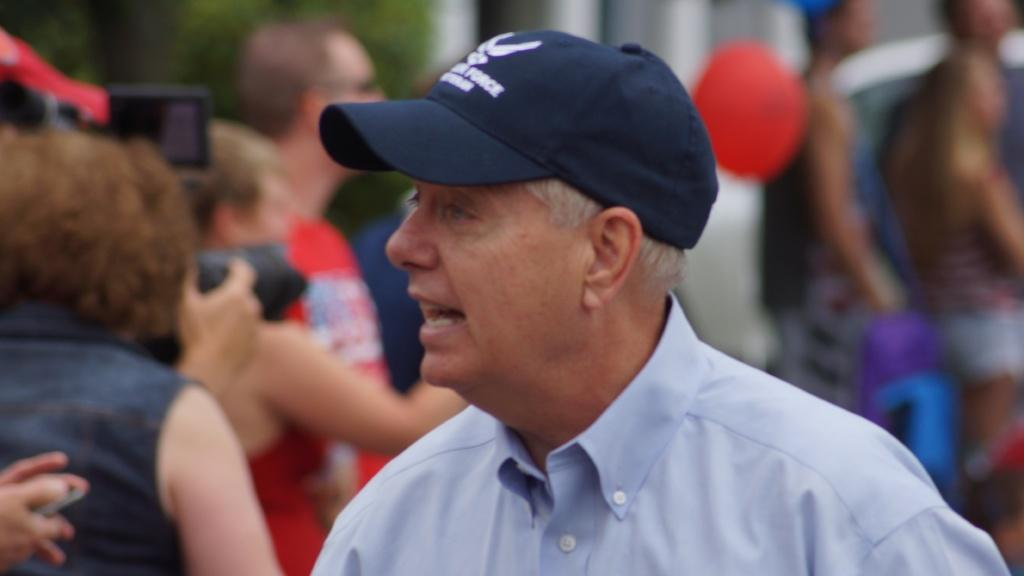Hat: (317, 29, 722, 252)
